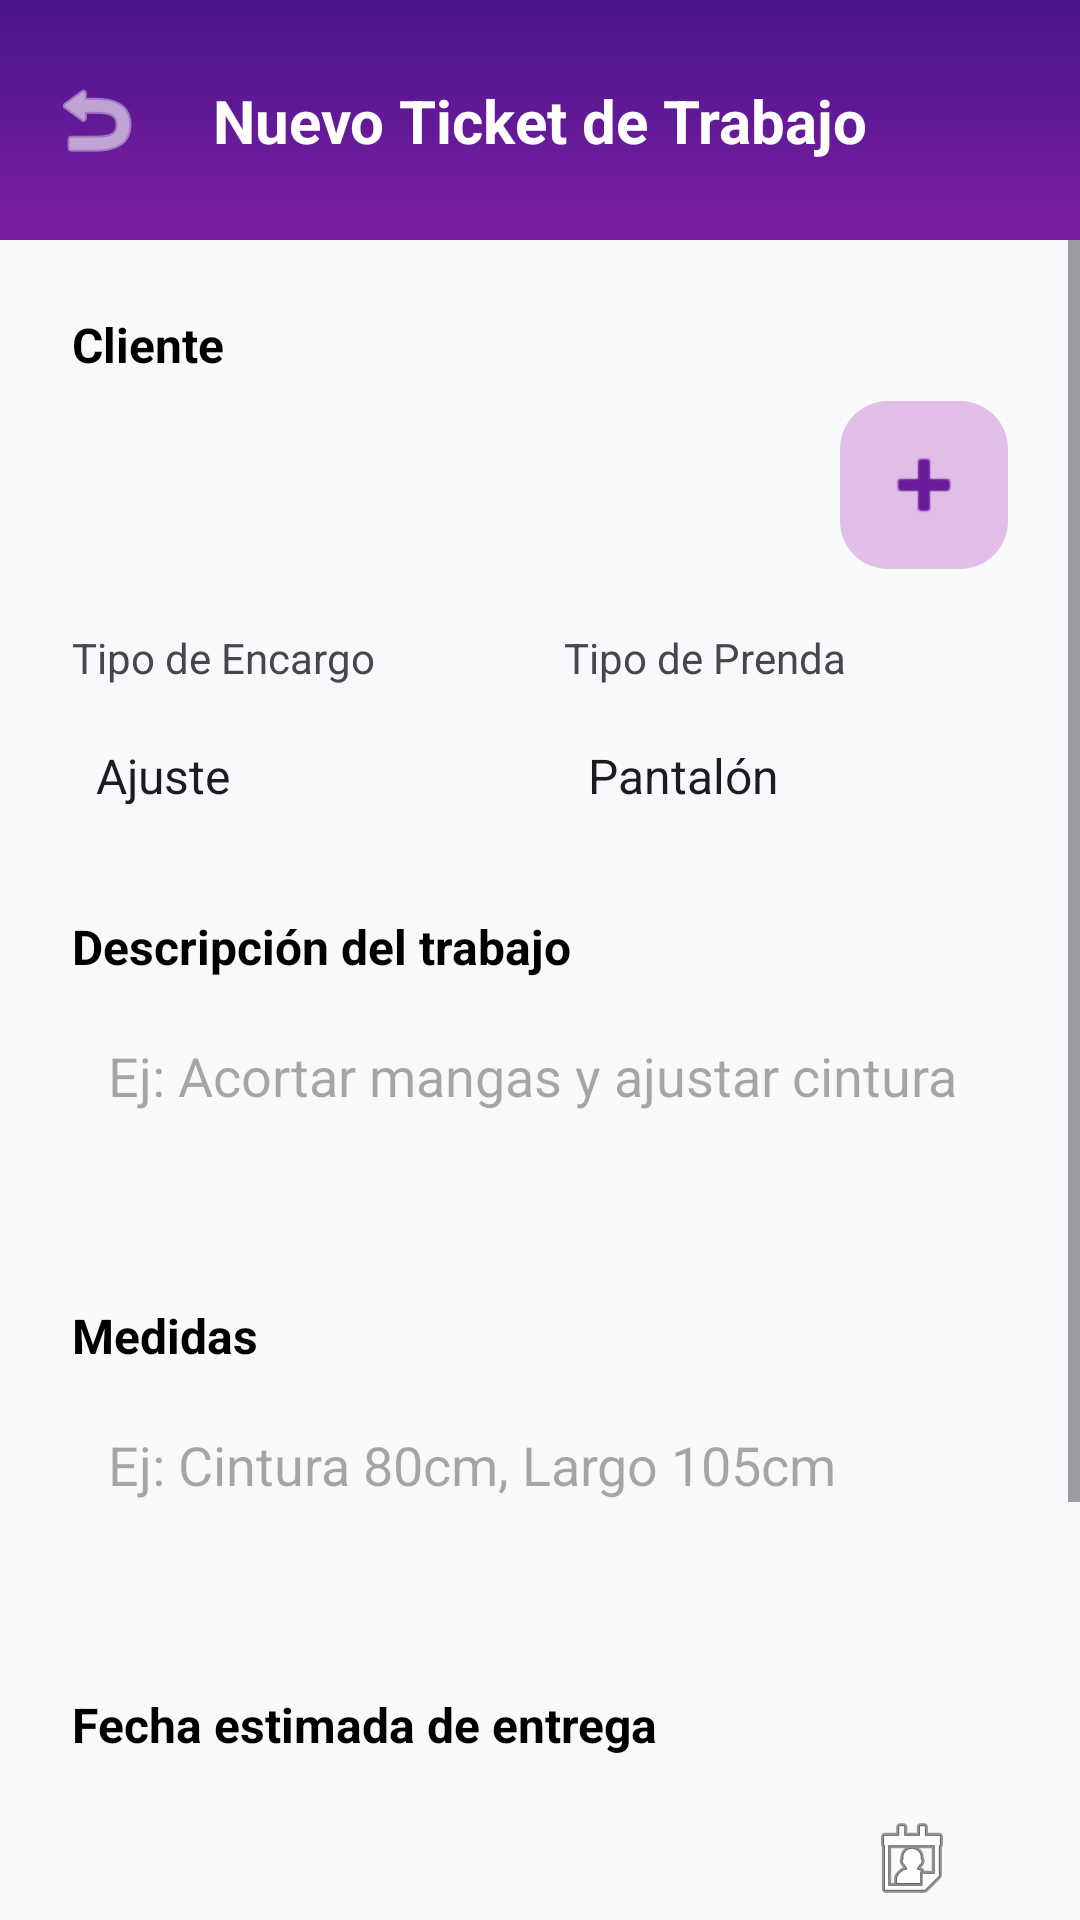

Where icons sit on this 1080 x 1920 app screen, as (x1, y1, x2, y2):
add: (840, 401, 1008, 569)
